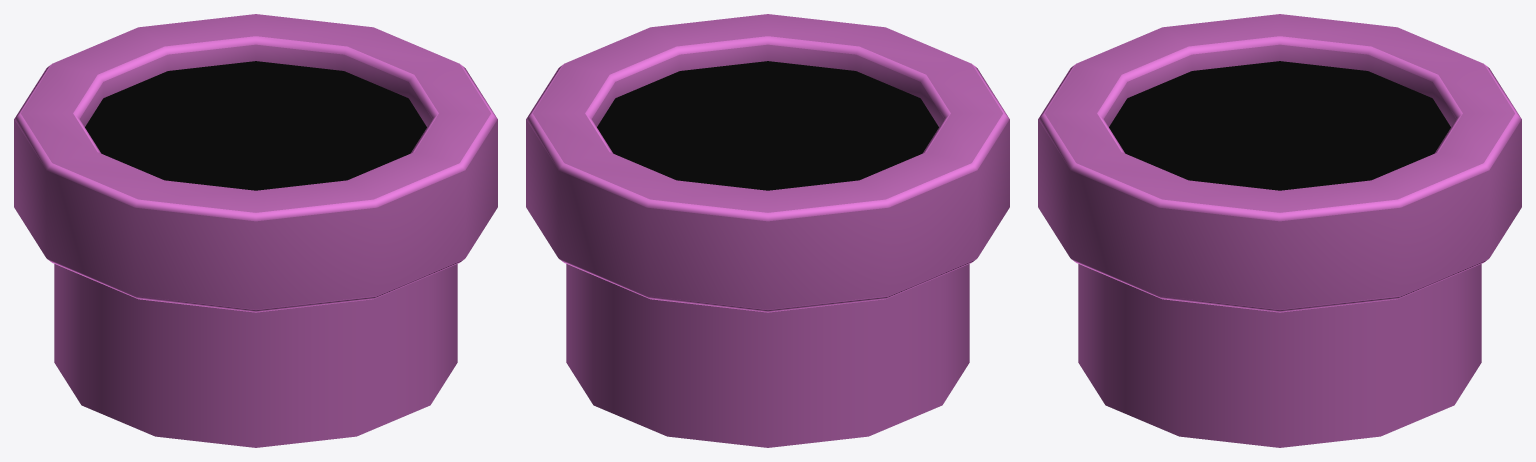
The model's file is PipeEnd.fbx.
3 views of the same model, side by side, from view 1: azimuth 30°, elevation 25°; view 2: azimuth 150°, elevation 25°; view 3: azimuth 270°, elevation 25° (orthographic).
Parts seen in each view (by area): view 1: Pipe_End; view 2: Pipe_End; view 3: Pipe_End.
Part boxes in pixels (x1,y1,x2,y2): Pipe_End: (14, 14, 497, 447); Pipe_End: (526, 14, 1009, 447); Pipe_End: (1038, 14, 1521, 447).
Bounding box in the file's own units: 39.07 × 22.22 × 39.07.
